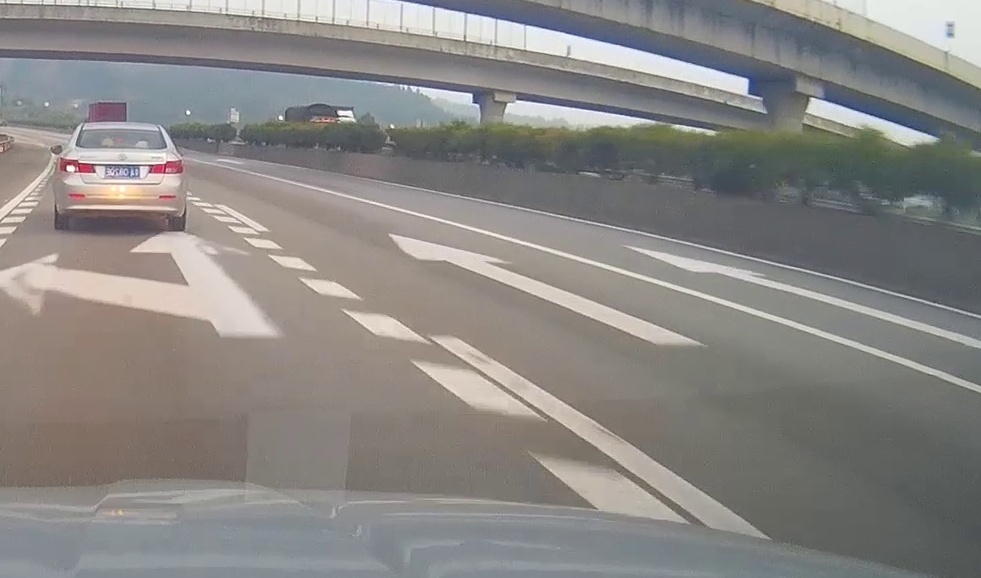L_light: (59, 157, 97, 174)
R_light: (148, 160, 183, 174)
T_light: (108, 145, 137, 148)
day-left: (52, 122, 187, 232)
